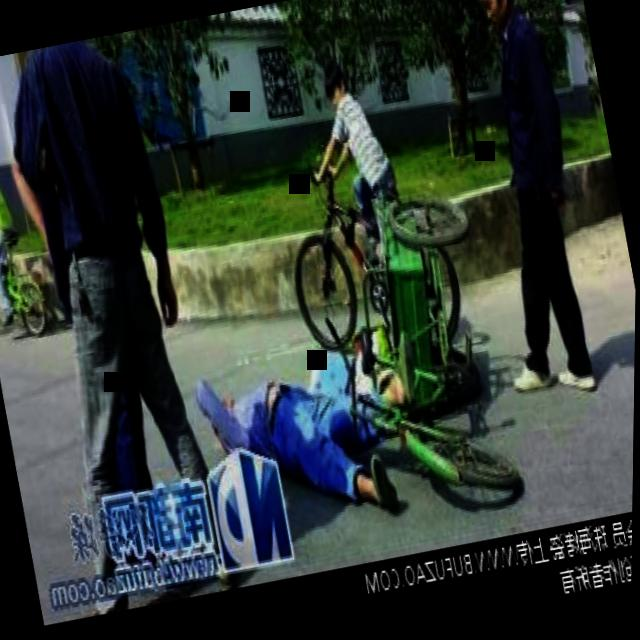Fall-Detected: (182, 305, 421, 546)
